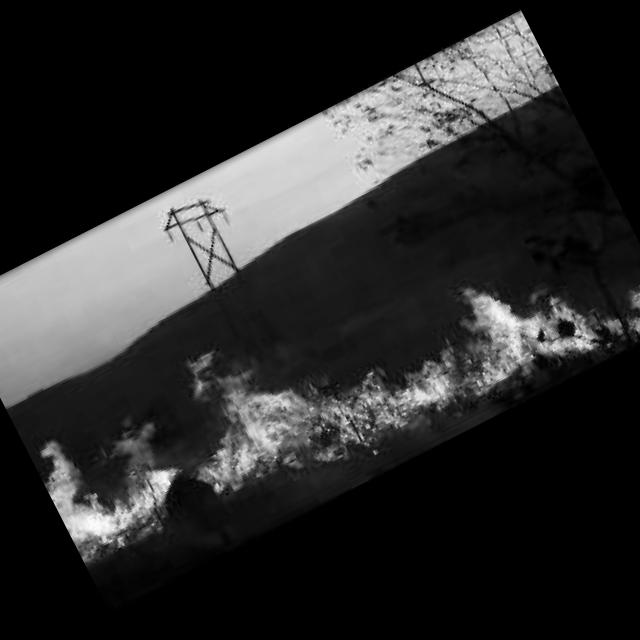fire: (154, 156, 640, 541), (27, 392, 200, 571)
